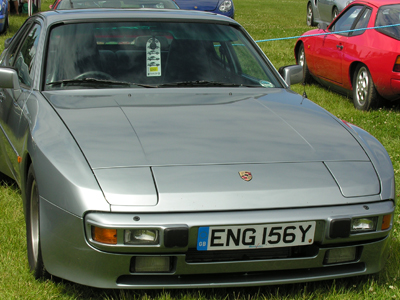licencePlate: (195, 221, 318, 253)
